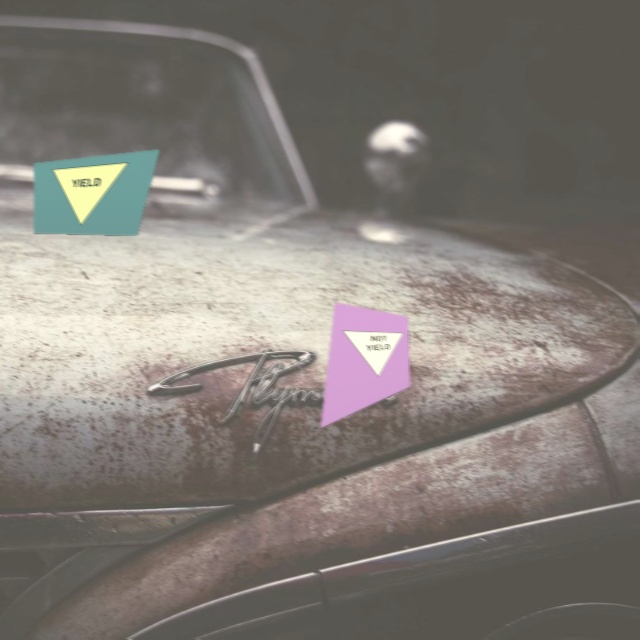NOT_YIELD: (338, 332, 405, 390)
YIELD: (50, 160, 130, 229)
